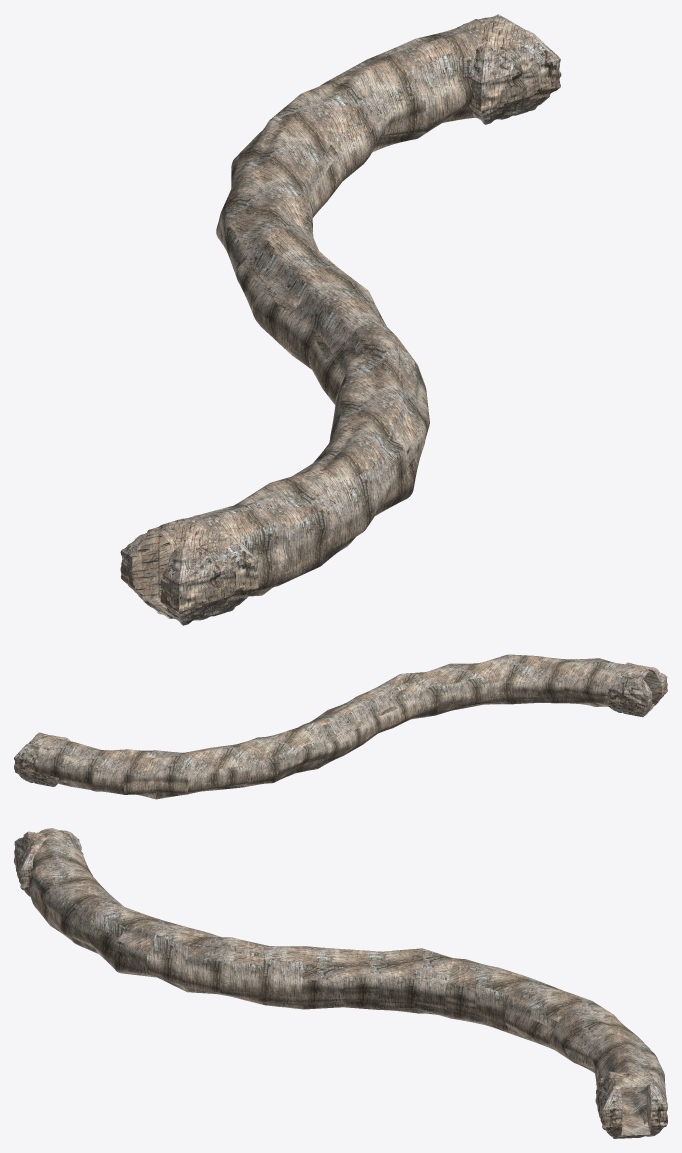
Rendered from Tunnel.fbx.
3 views of the same model, one above another, from view 1: azimuth 30°, elevation 25°; view 2: azimuth 150°, elevation 25°; view 3: azimuth 270°, elevation 25° (orthographic). The views are drawn at different scales.
Parts seen in each view (by area): view 1: Torus.002, Torus.001, rock.007, rock.005; view 2: Torus.002, Torus.001, rock.007, rock.005; view 3: Torus.002, Torus.001, rock.005, rock.007.
Part boxes in pixels (box(x1,y1,x2,y2)): Torus.002: box(147, 19, 485, 618); Torus.001: box(152, 19, 483, 618); rock.007: box(120, 515, 258, 625); rock.005: box(451, 14, 561, 124); Torus.002: box(34, 654, 653, 799); Torus.001: box(35, 655, 653, 798); rock.007: box(602, 662, 667, 717); rock.005: box(14, 732, 70, 786); Torus.002: box(18, 828, 666, 1124); Torus.001: box(20, 828, 664, 1121); rock.005: box(595, 1071, 667, 1138); rock.007: box(14, 830, 83, 896).
Bounding box in the file's own units: 43.65 × 4.87 × 44.61.
